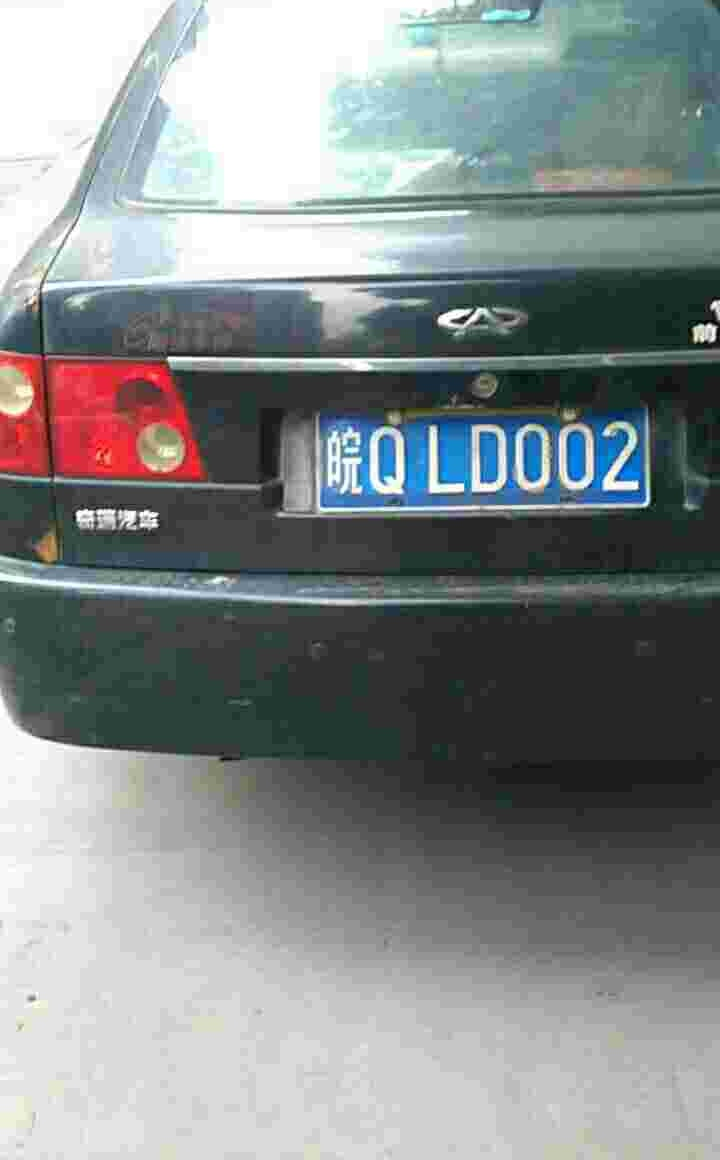license_plate: (317, 423, 640, 505)
